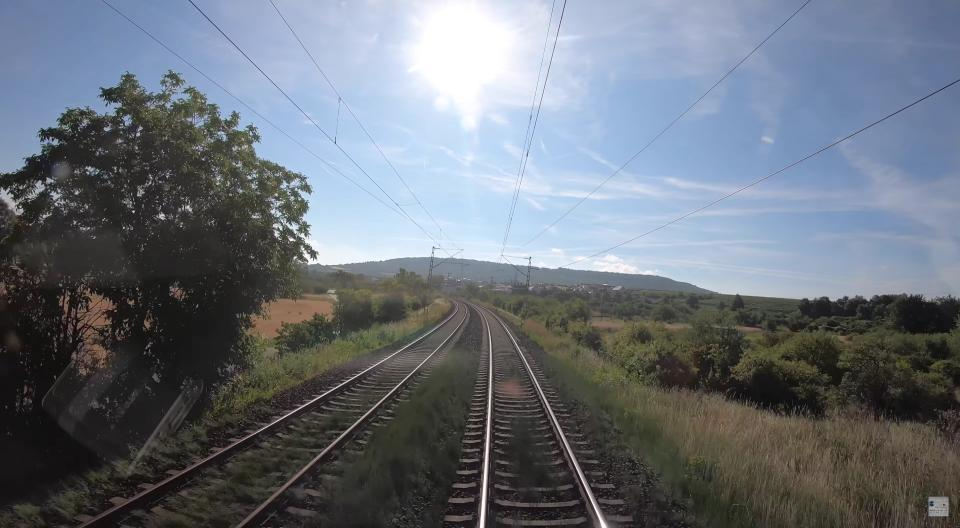Plant: (540, 352, 750, 528), (328, 350, 478, 528), (203, 412, 349, 504), (503, 413, 561, 505), (202, 502, 235, 528), (159, 513, 195, 528)
